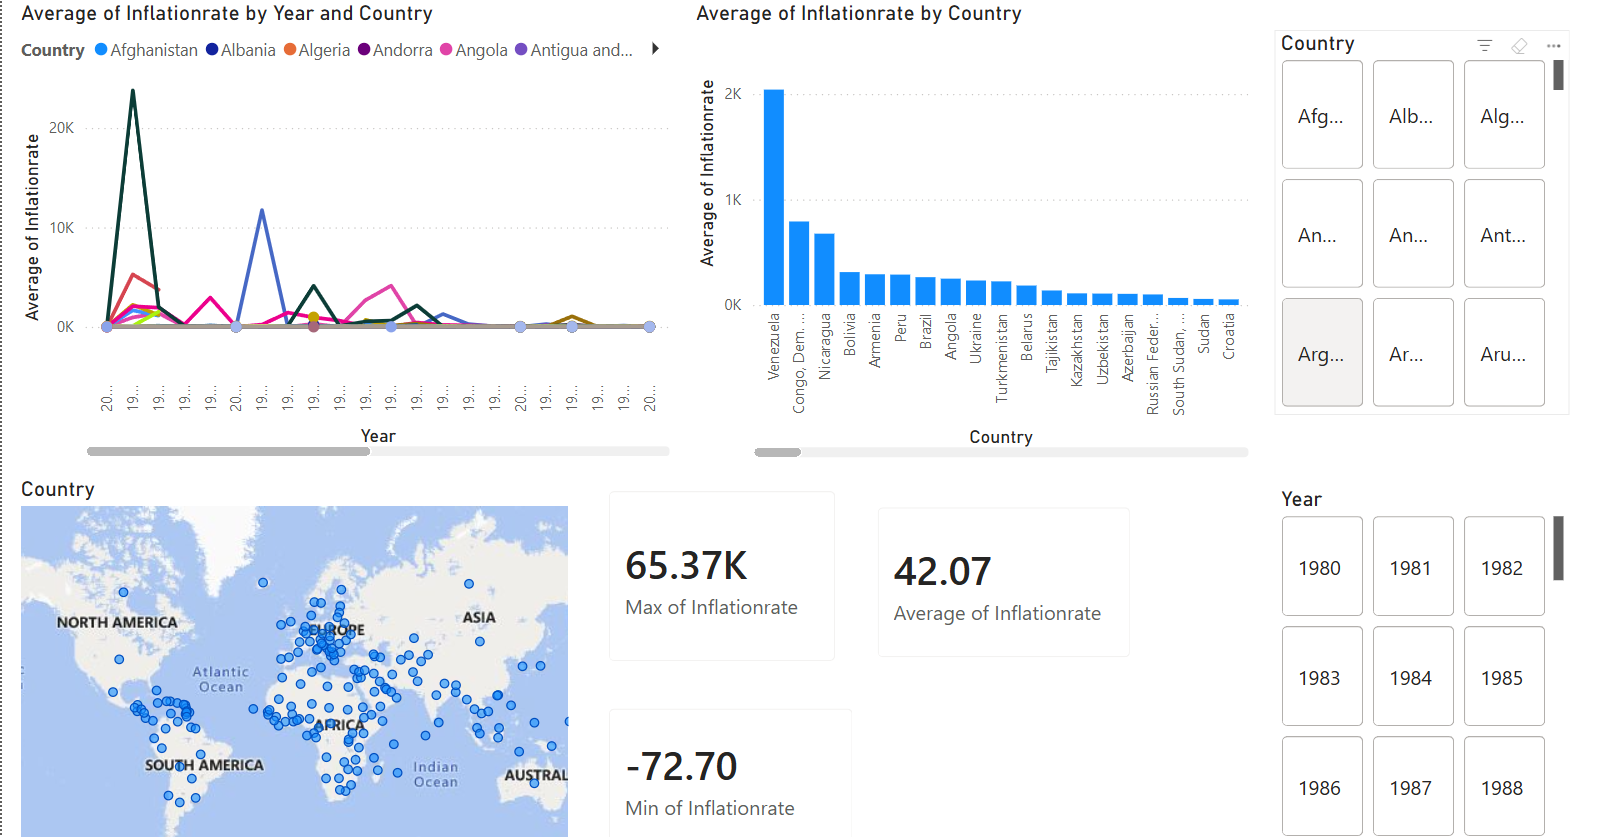

This screenshot's page, from the dashboard's own definition file:
{"tool":"powerbi","page":{"name":"Page 1","canvas":[1280,720],"ordinal":0},"visuals":[{"type":"lineChart","fields":{"Category":["C:\\Users\\Admin\\OneDrive\\Documents\\_global_inflation_data csv.Year"],"Y":["Avg(C:\\Users\\Admin\\OneDrive\\Documents\\_global_inflation_data csv.Inflationrate)"],"Series":["C:\\Users\\Admin\\OneDrive\\Documents\\_global_inflation_data csv.Country"]},"box":[9.6,0,529.7,370.5],"z":0},{"type":"map","fields":{"Category":["C:\\Users\\Admin\\OneDrive\\Documents\\_global_inflation_data csv.Country"]},"box":[10,380.6,447.6,339.2],"z":1000},{"type":"clusteredColumnChart","fields":{"Category":["C:\\Users\\Admin\\OneDrive\\Documents\\_global_inflation_data csv.Country"],"Y":["Avg(C:\\Users\\Admin\\OneDrive\\Documents\\_global_inflation_data csv.Inflationrate)"]},"box":[550.2,0,451.8,370.6],"z":1001},{"type":"cardVisual","fields":{"Data":["Max(C:\\Users\\Admin\\OneDrive\\Documents\\_global_inflation_data csv.Inflationrate)"]},"box":[467.5,376.3,215.2,169.6],"z":1002},{"type":"cardVisual","fields":{"Data":["Avg(C:\\Users\\Admin\\OneDrive\\Documents\\_global_inflation_data csv.Inflationrate)"]},"box":[682.8,389.1,236.6,153.9],"z":1003},{"type":"cardVisual","fields":{"Data":["Min(C:\\Users\\Admin\\OneDrive\\Documents\\_global_inflation_data csv.Inflationrate)"]},"box":[467.5,550.2,229.5,142.5],"z":1004},{"type":"advancedSlicerVisual","fields":{"Values":["C:\\Users\\Admin\\OneDrive\\Documents\\_global_inflation_data csv.Country"]},"box":[1017.7,24.2,236.6,307.9],"z":1006},{"type":"advancedSlicerVisual","fields":{"Values":["C:\\Users\\Admin\\OneDrive\\Documents\\_global_inflation_data csv.Year"]},"box":[1017.7,389.1,236.6,287.9],"z":1007}]}

Visuals, with their boxes on the page's 1280x720 design canvas (x1, y1, x2, y2). These are canvas units, not pixel positions in the 1601x837 screenshot, which may show the page scaled, cropped or inside an application window:
lineChart - C:\Users\Admin\OneDrive\Documents\_global_inflation_data csv.Year x Avg(C:\Users\Admin\OneDrive\Documents\_global_inflation_data csv.Inflationrate): l=10, t=0, r=539, b=370
map - C:\Users\Admin\OneDrive\Documents\_global_inflation_data csv.Country: l=10, t=381, r=458, b=720
clusteredColumnChart - C:\Users\Admin\OneDrive\Documents\_global_inflation_data csv.Country x Avg(C:\Users\Admin\OneDrive\Documents\_global_inflation_data csv.Inflationrate): l=550, t=0, r=1002, b=371
cardVisual - Max(C:\Users\Admin\OneDrive\Documents\_global_inflation_data csv.Inflationrate): l=468, t=376, r=683, b=546
cardVisual - Avg(C:\Users\Admin\OneDrive\Documents\_global_inflation_data csv.Inflationrate): l=683, t=389, r=919, b=543
cardVisual - Min(C:\Users\Admin\OneDrive\Documents\_global_inflation_data csv.Inflationrate): l=468, t=550, r=697, b=693
advancedSlicerVisual - C:\Users\Admin\OneDrive\Documents\_global_inflation_data csv.Country: l=1018, t=24, r=1254, b=332
advancedSlicerVisual - C:\Users\Admin\OneDrive\Documents\_global_inflation_data csv.Year: l=1018, t=389, r=1254, b=677
